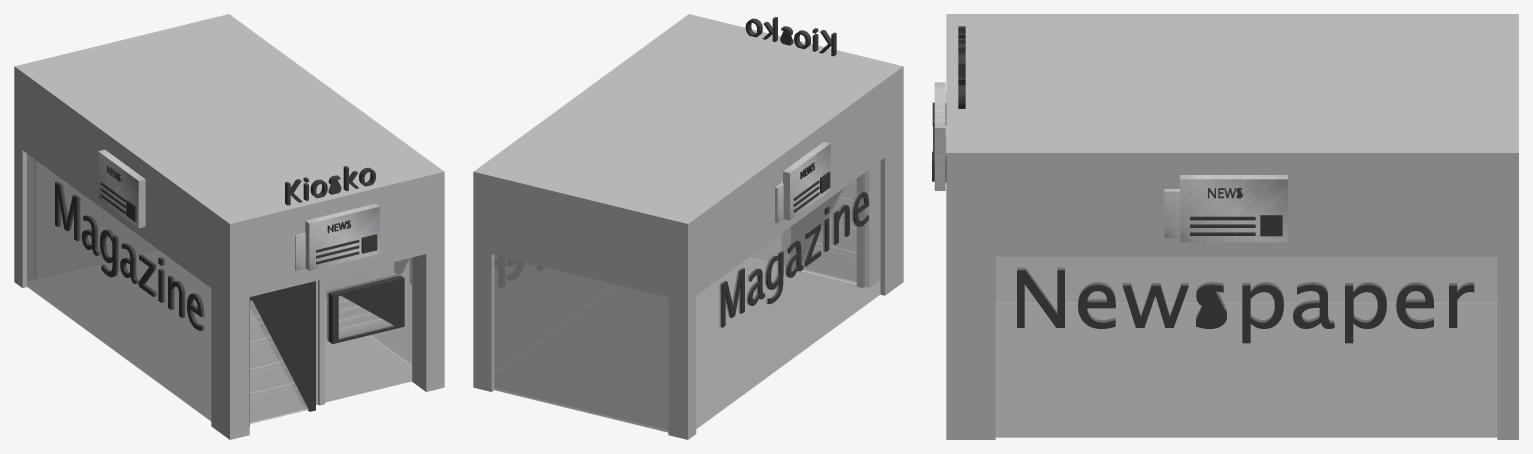
Rendered from KIOSKO.fbx.
The picture shows the model from 3 angles, left to right: view 1: azimuth 30°, elevation 25°; view 2: azimuth 150°, elevation 25°; view 3: azimuth 270°, elevation 25°; orthographic projection. The views are drawn at different scales.
Parts seen in each view (by area): view 1: KIOSKO, VIDRO, pasted__pPlane7 (×2), pCube3 (×2), porta16, typeMesh3, JANELA, typeMesh4; view 2: KIOSKO, VIDRO, typeMesh3, pCube3, pasted__pPlane7, porta16, typeMesh4; view 3: KIOSKO, VIDRO, typeMesh5, pasted__pPlane7 (×2), pasted__pPlane6, typeMesh4.
Part boxes in pixels (<box>): KIOSKO: <box>14,14,444,439</box>; VIDRO: <box>27,153,412,420</box>; pasted__pPlane7 (×2): <box>98,149,379,270</box>; pCube3 (×2): <box>250,295,393,423</box>; porta16: <box>249,281,315,426</box>; typeMesh3: <box>55,181,203,330</box>; JANELA: <box>327,274,404,344</box>; typeMesh4: <box>285,166,375,205</box>; KIOSKO: <box>473,14,903,439</box>; VIDRO: <box>494,161,880,429</box>; typeMesh3: <box>720,192,868,327</box>; pCube3: <box>802,179,856,282</box>; pasted__pPlane7: <box>783,142,830,220</box>; porta16: <box>791,173,864,287</box>; typeMesh4: <box>745,17,836,56</box>; KIOSKO: <box>946,14,1518,439</box>; VIDRO: <box>995,256,1497,437</box>; typeMesh5: <box>1017,268,1474,343</box>; pasted__pPlane7 (×2): <box>934,82,1287,242</box>; pasted__pPlane6: <box>1164,189,1179,238</box>; typeMesh4: <box>958,26,965,108</box>.
Size of the model in its own units: 3.45 by 3.33 by 5.56.
